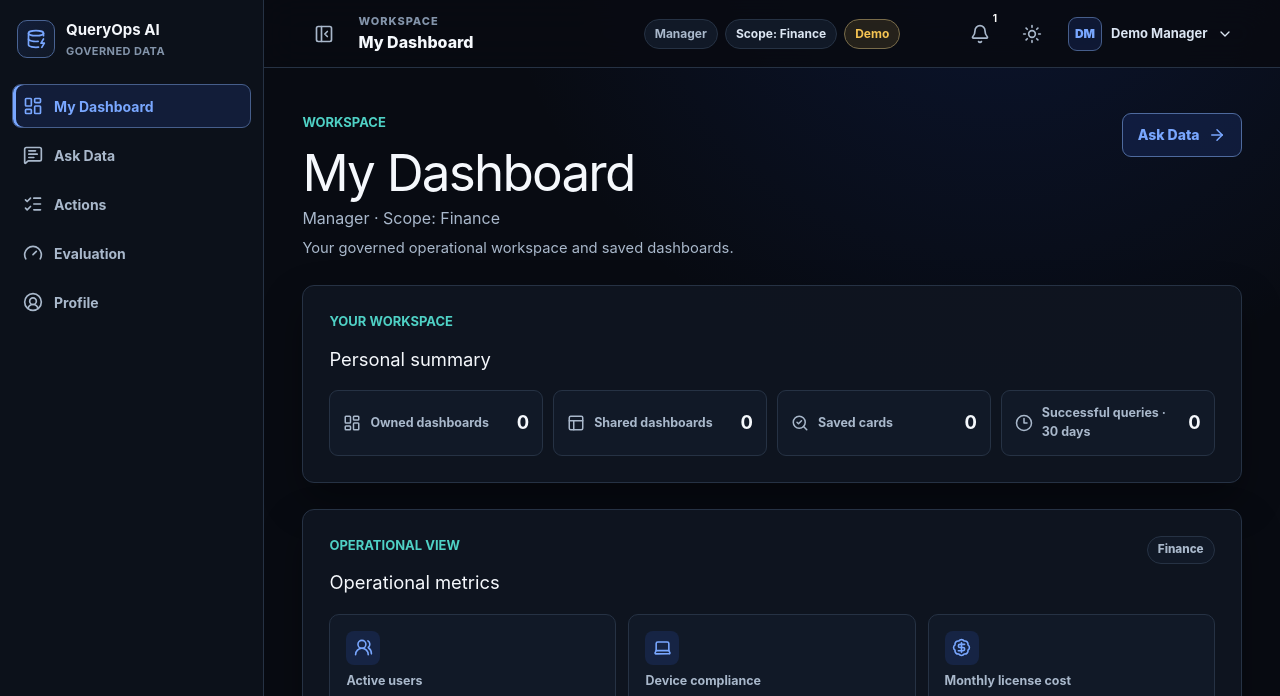
Scenario: NotificationCenter › marks all notifications read and applies the authoritative empty unread filter
Click the button named "Open notifications, 1 unread" at (980, 34), box [958, 12, 1002, 56]
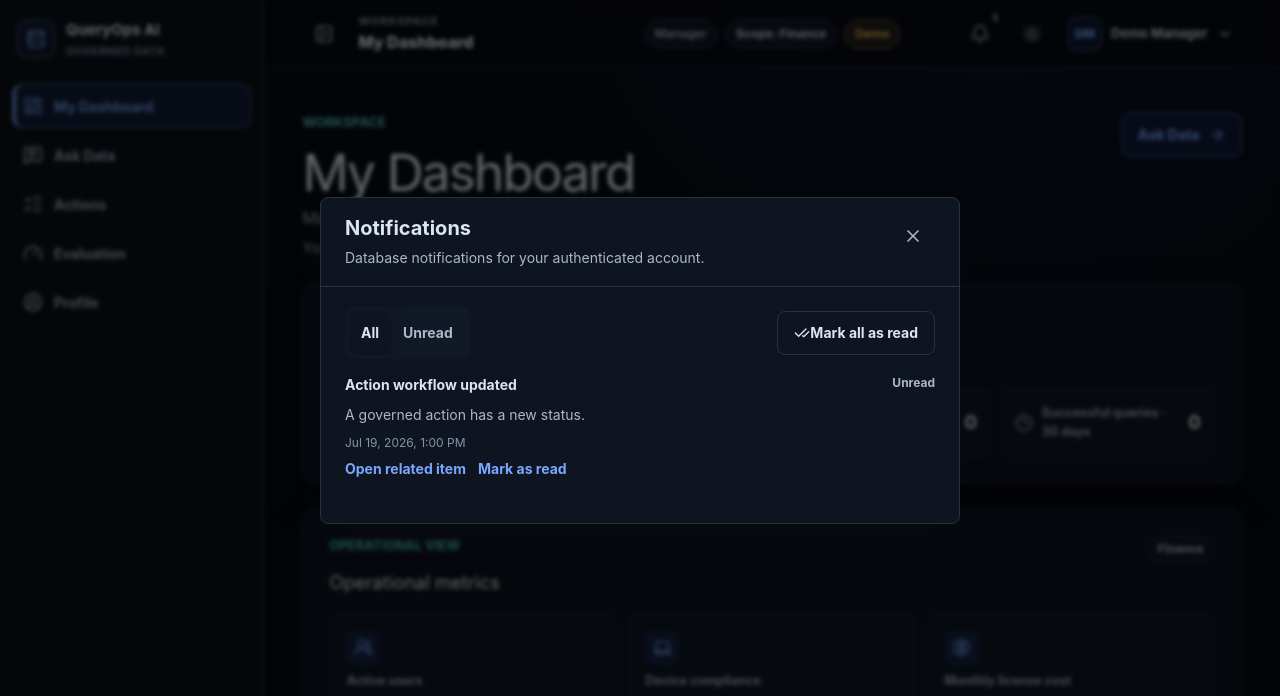
Click the button "Mark all as read" at (856, 332), box [777, 310, 935, 354]
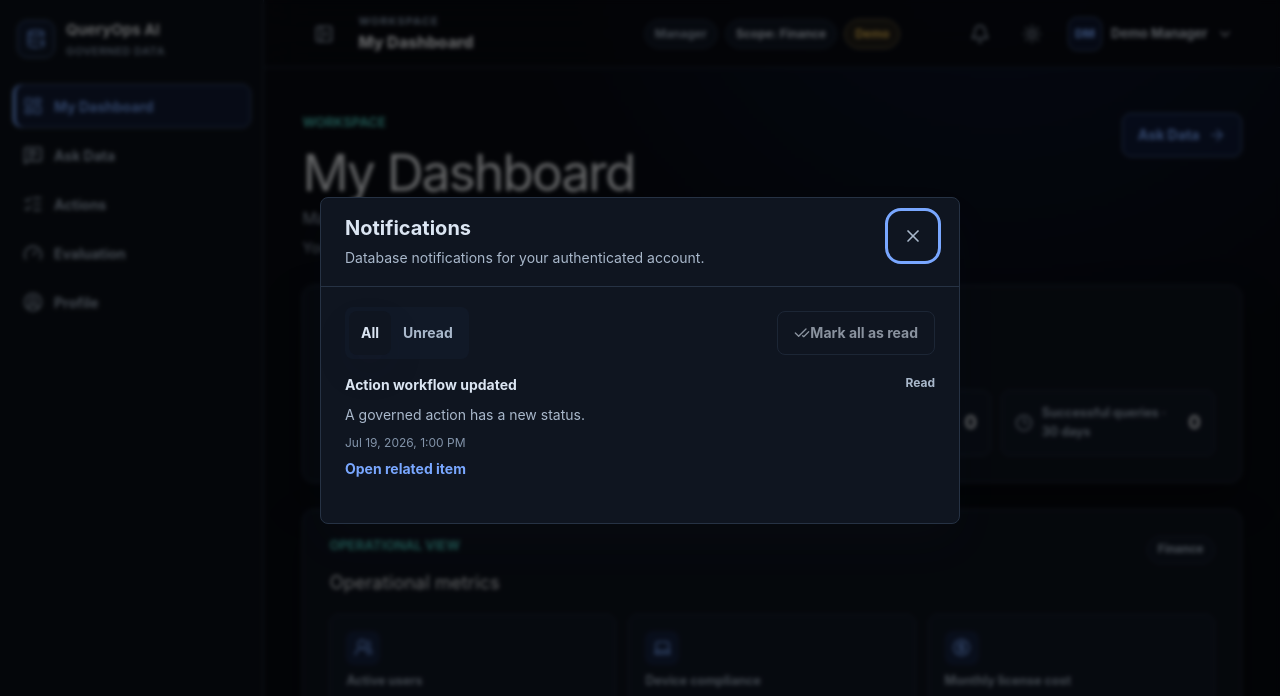
Expected: the button named "Open notifications, 0 unread" is shown, [958, 12, 1002, 56]
Click the tab "Unread" at (428, 332), box [391, 310, 465, 354]
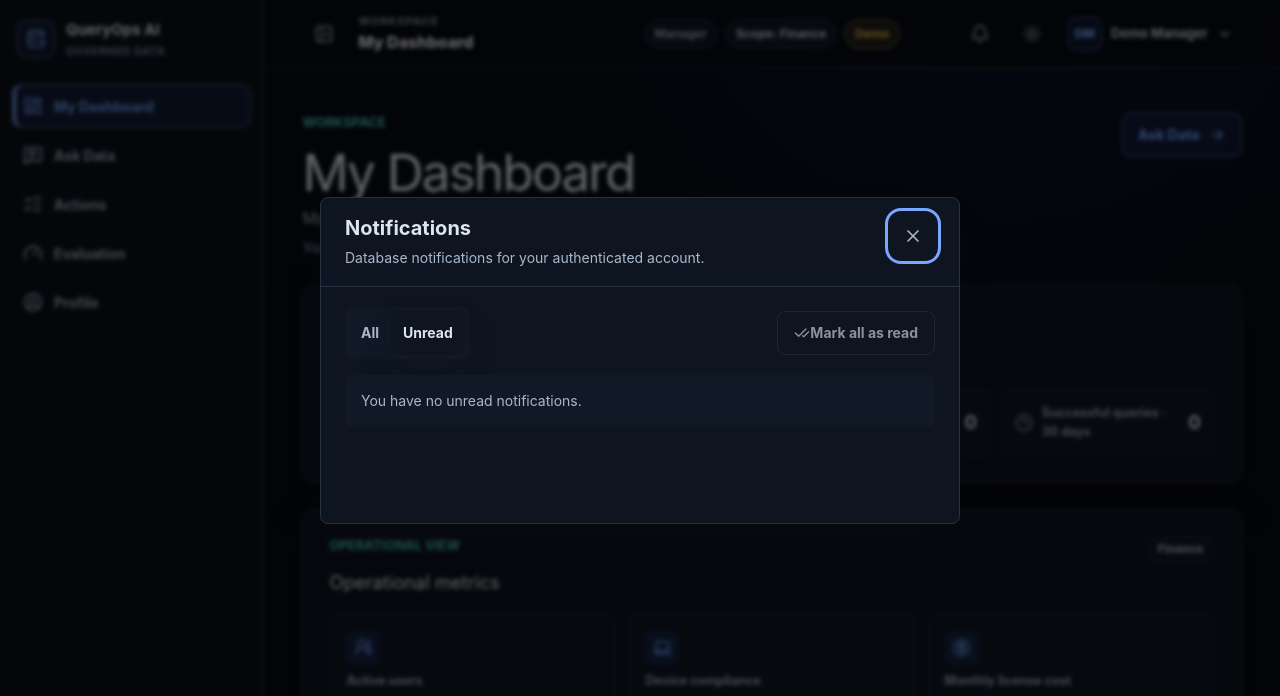
Expected: the text "You have no unread notifications." is shown, [345, 374, 935, 426]
